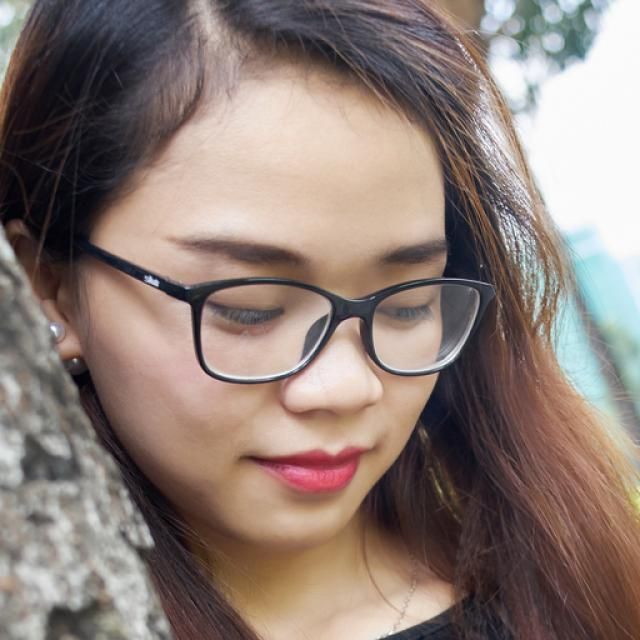neutral: (90, 52, 450, 550)
